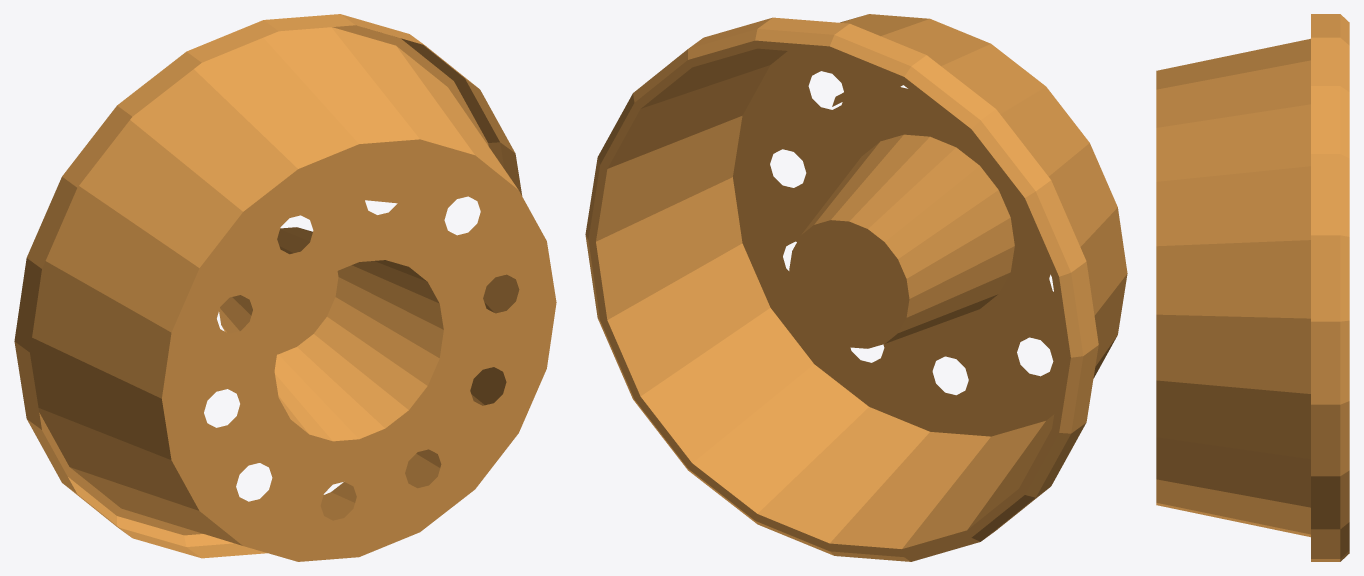
The model's file is Ring1_rear.fbx.
The picture shows the model from 3 angles, left to right: view 1: azimuth 30°, elevation 25°; view 2: azimuth 150°, elevation 25°; view 3: azimuth 270°, elevation 25°; orthographic projection. The views are drawn at different scales.
Visible parts, largest first — view 1: polySurface14; view 2: polySurface14; view 3: polySurface14.
Part boxes in pixels (box(x1,y1,x2,y2)): polySurface14: box(14, 14, 556, 561); polySurface14: box(585, 14, 1127, 561); polySurface14: box(1156, 14, 1349, 561).
Size of the model in its own units: 0.0291 by 0.0291 by 0.0102.
